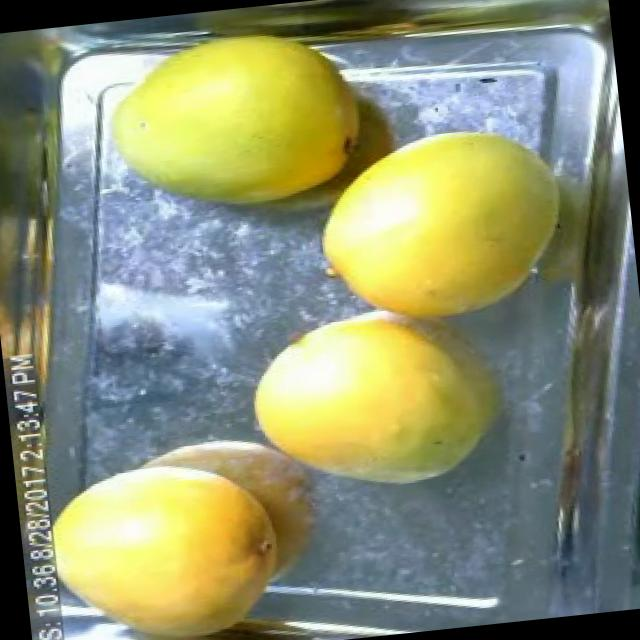fruit: (228, 270, 530, 522), (300, 102, 595, 356), (84, 8, 380, 236), (41, 424, 309, 640)
